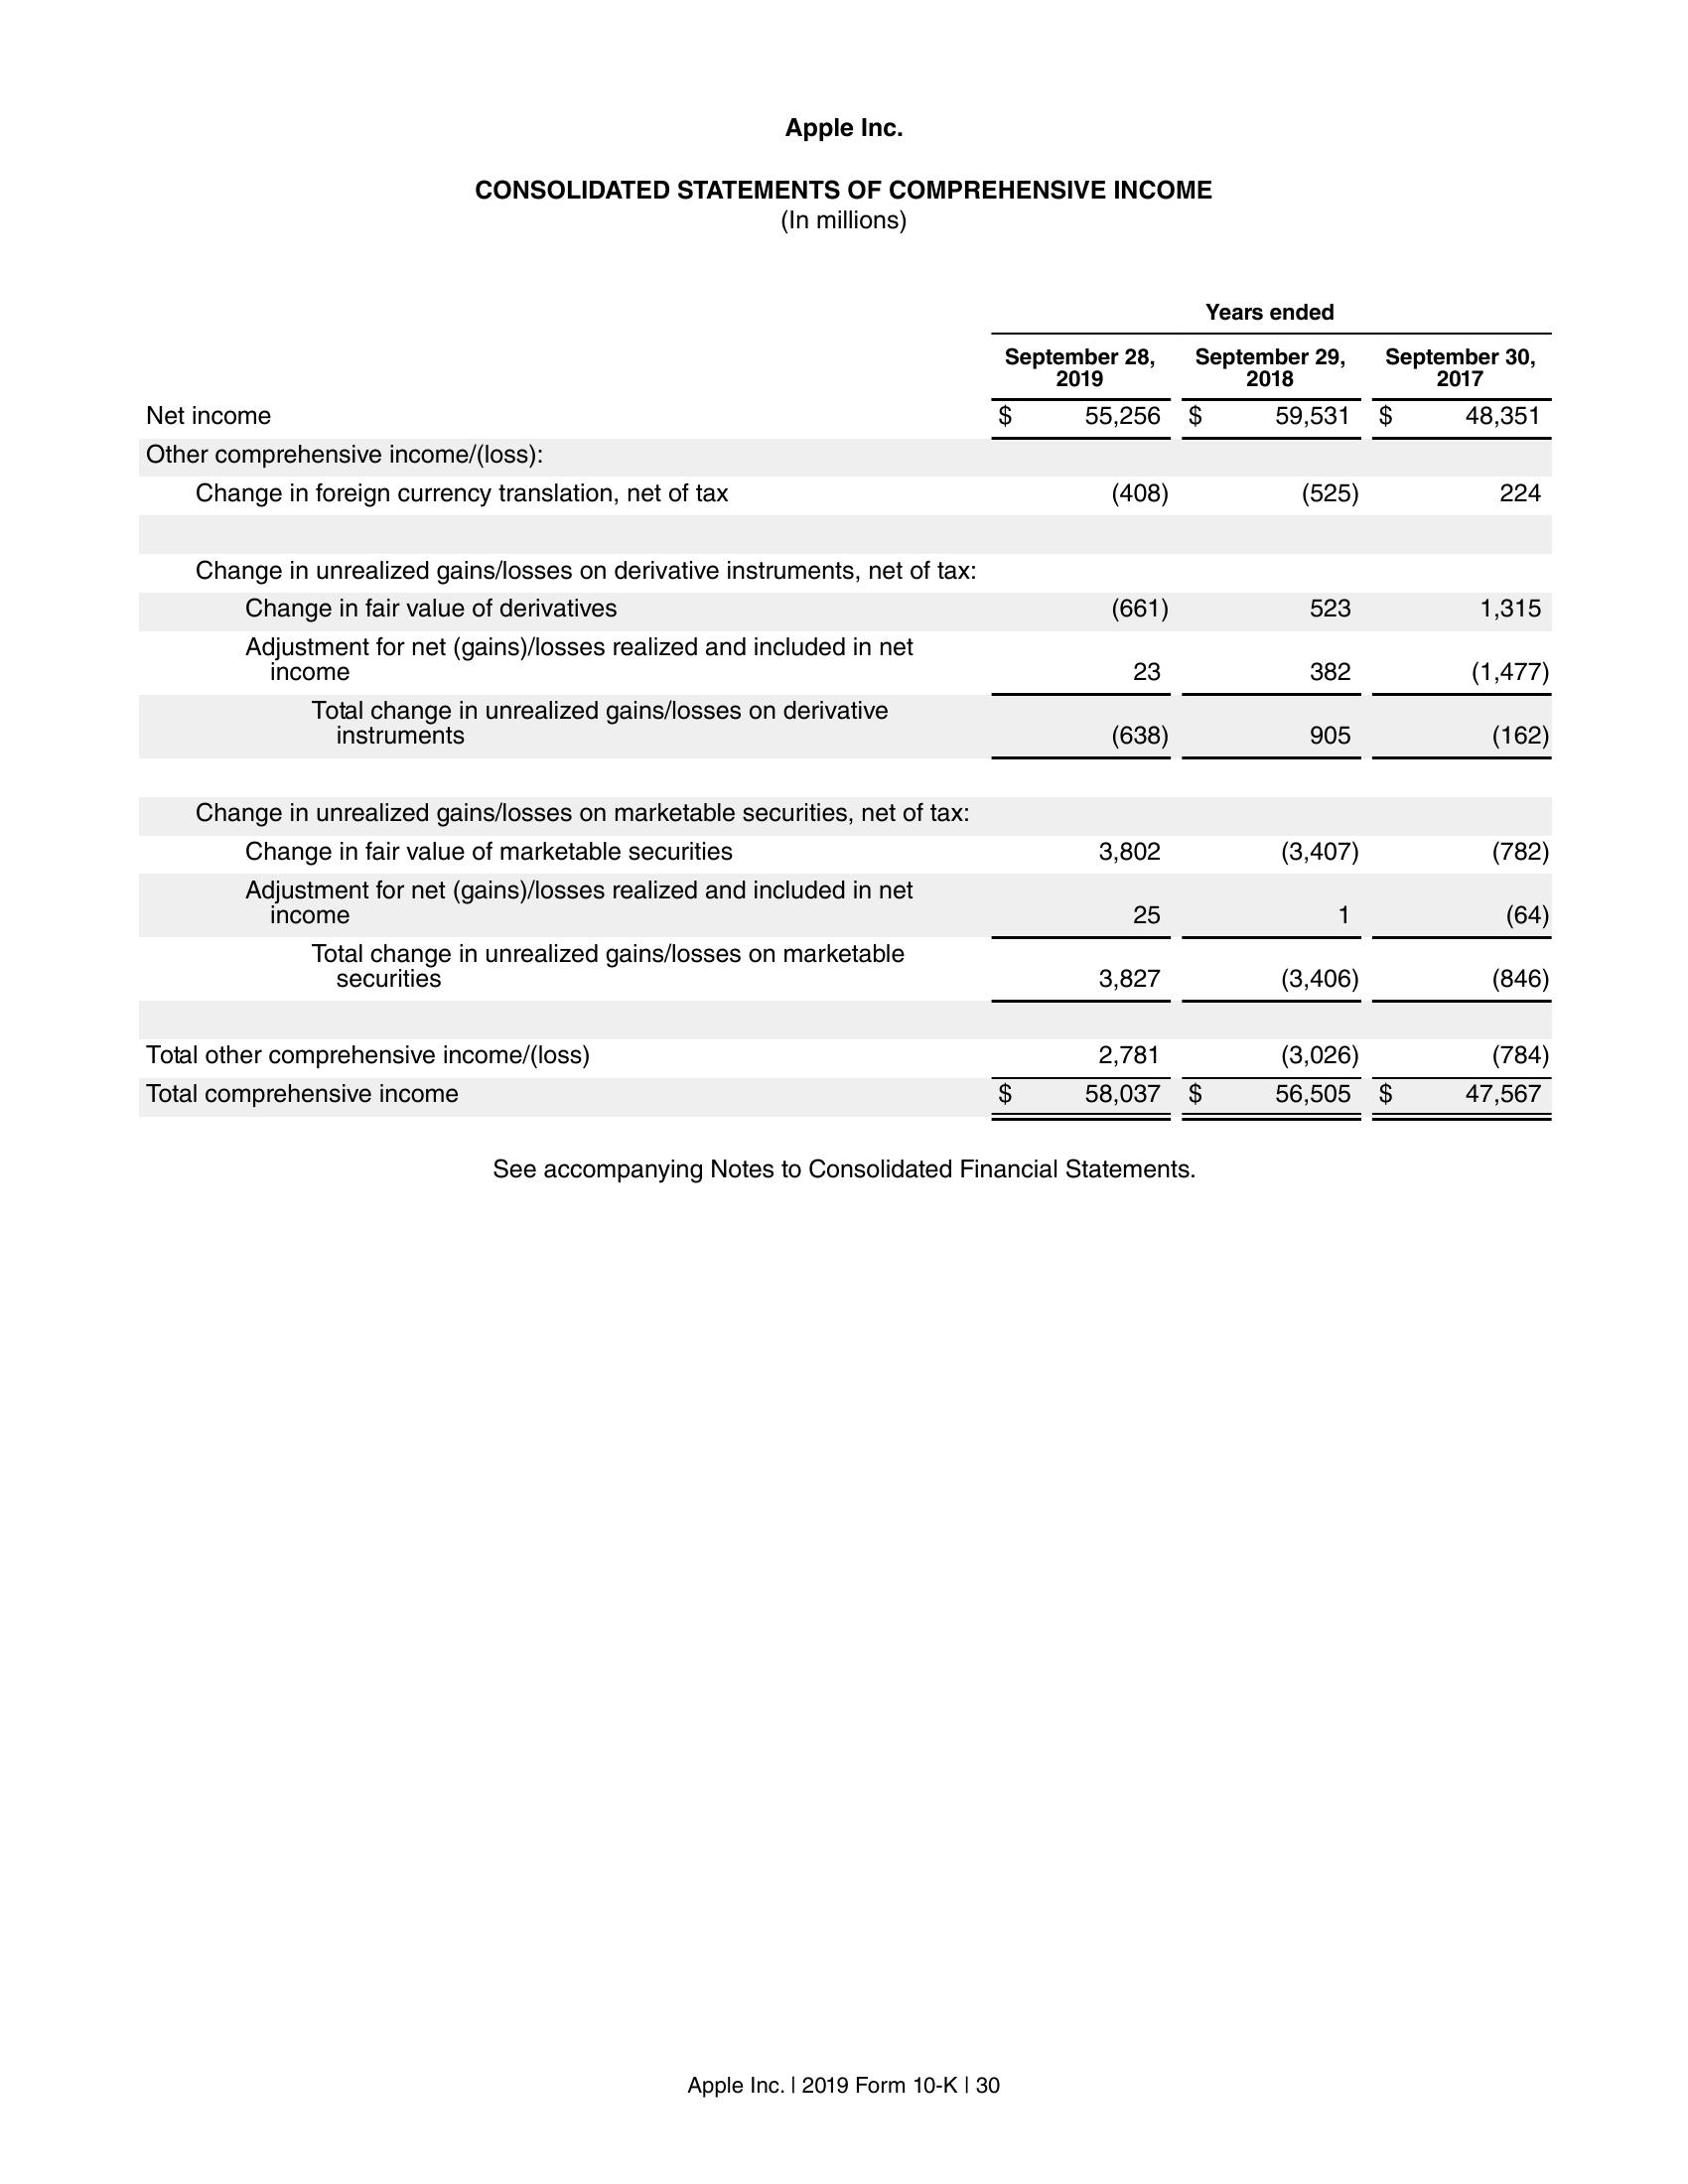table: (135, 296, 1557, 1122)
